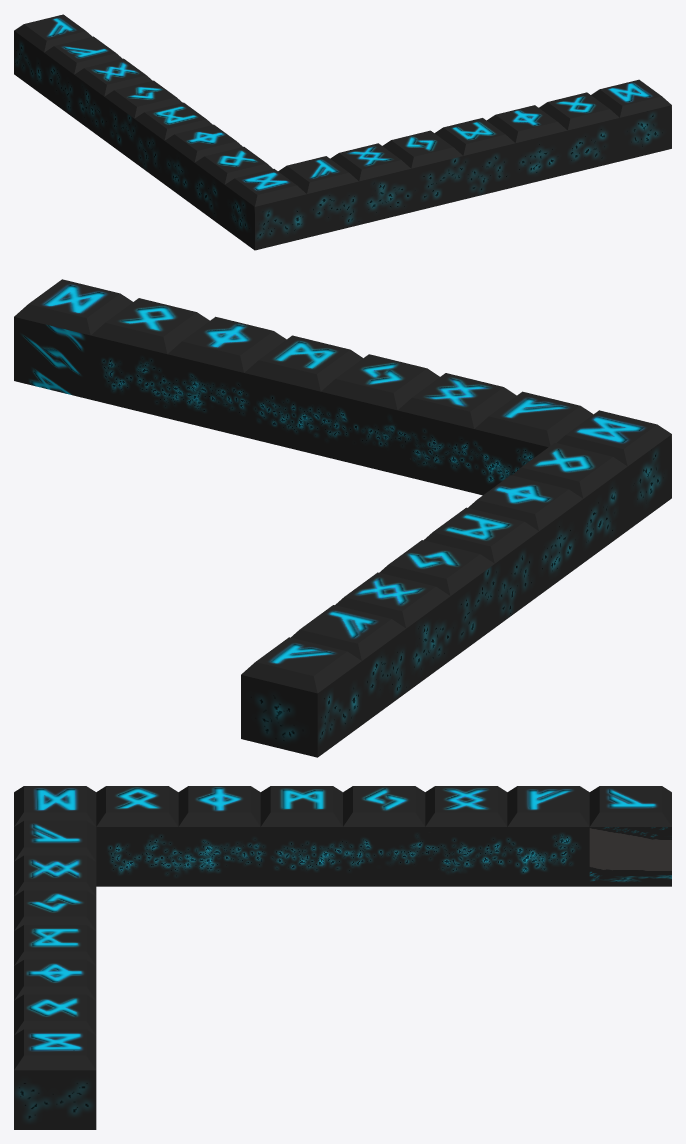
The model's file is Field_Wall.fbx.
3 renders of one model, top to bottom at view 1: azimuth 30°, elevation 25°; view 2: azimuth 150°, elevation 25°; view 3: azimuth 270°, elevation 25°, orthographic. The views are drawn at different scales.
Parts seen in each view (by area): view 1: Plane001; view 2: Plane001; view 3: Plane001.
Part boxes in pixels (x1=…): Plane001: x1=14, y1=14, x2=671, y2=250; Plane001: x1=14, y1=279, x2=671, y2=757; Plane001: x1=14, y1=786, x2=671, y2=1129.
Size of the model in its own units: 1575 by 185 by 1575.
Materials: 1 (1 with a texture image).
